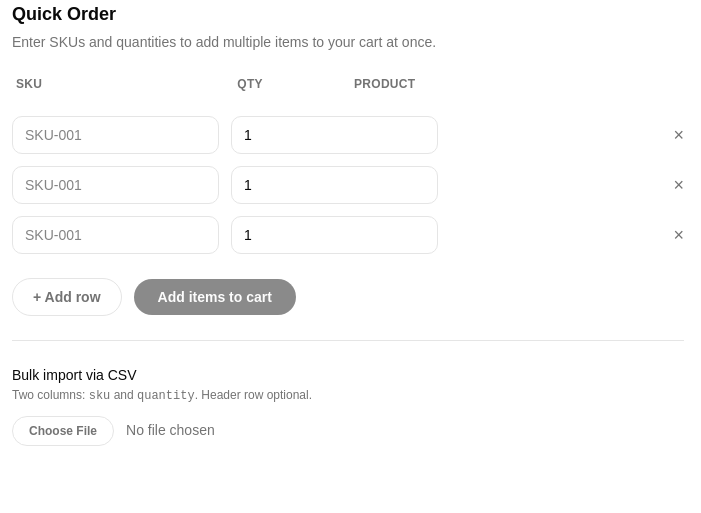
Test: QuickOrderPage › adds a new row when "Add row" is clicked
Click the button "+ Add row".
click(67, 297)  # box [12,278,122,316]
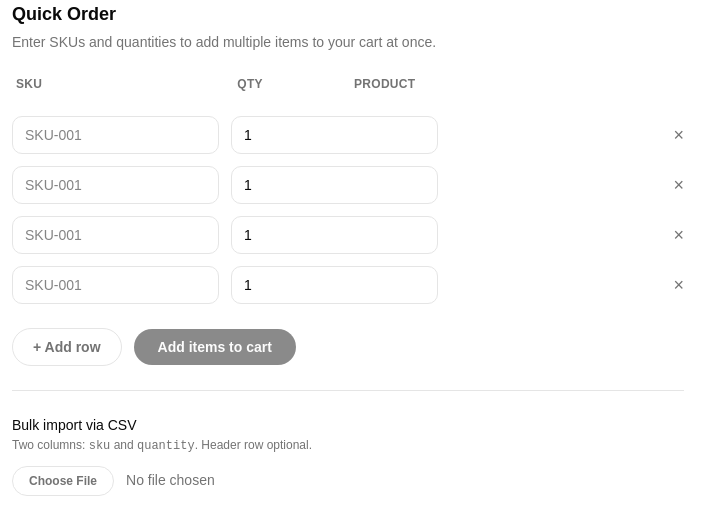
Expected: the number of fields with placeholder "SKU-001" is 4, [12,116,219,154]; [12,166,219,204]; [12,216,219,254]; [12,266,219,304]
